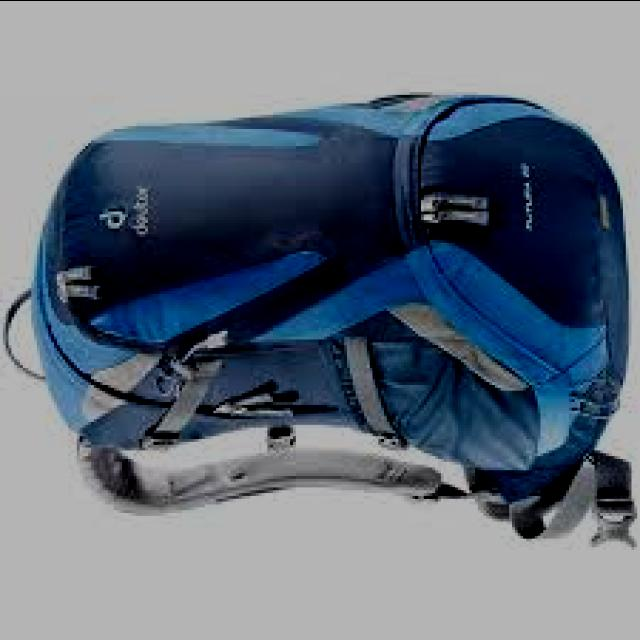backpack: (1, 92, 632, 545)
